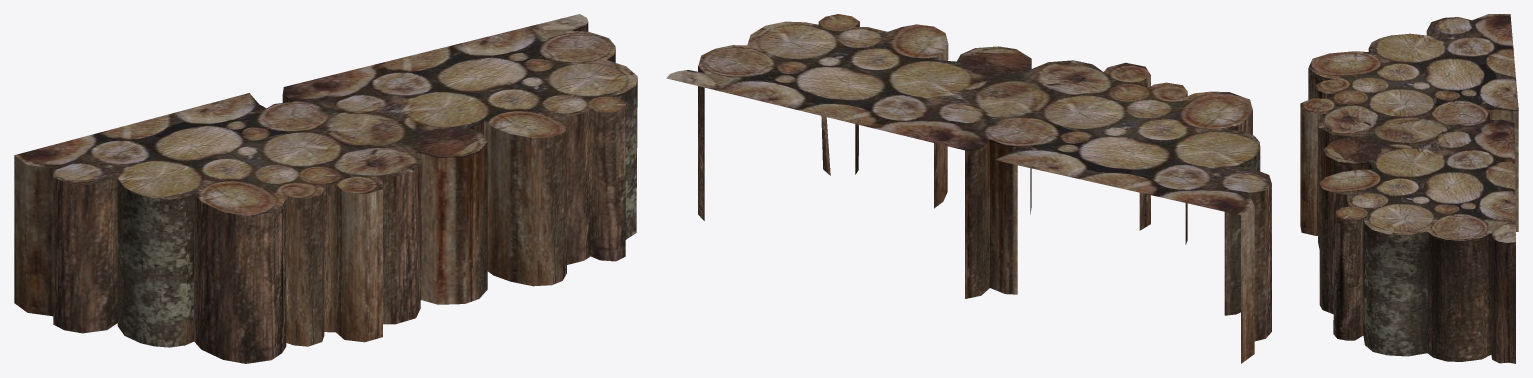
The model's file is prop_woodstack1.glb.
3 views of the same model, side by side, from view 1: azimuth 30°, elevation 25°; view 2: azimuth 150°, elevation 25°; view 3: azimuth 270°, elevation 25° (orthographic). The views are drawn at different scales.
Size of the model in its own units: 118 by 29.24 by 47.59.
1 material, 1 textured.
